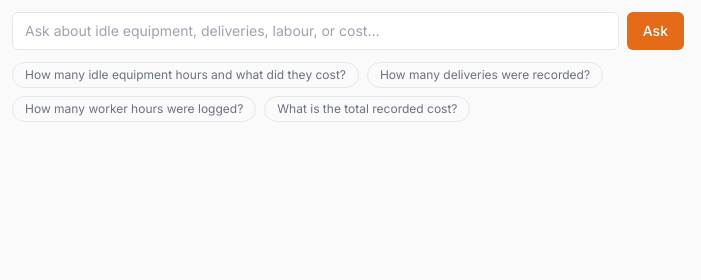
Test case: RecordAsk › asks a question and renders the answer + evidence count
The width and height of the screenshot is (701, 280).
In the field with placeholder "Ask about idle equipment, deliveries, labour, or cost…": (315,31) [12,12,619,50], type "idle equipment cost?"
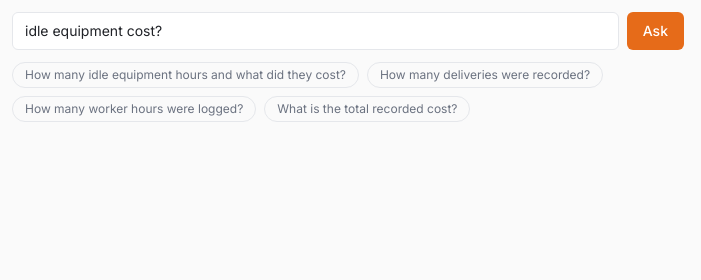
Click the button "Ask": (655,31) [627,12,684,50]
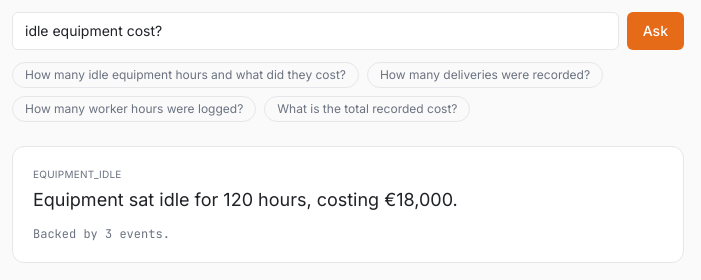
Expected: the element with test id "ask-answer" is shown, [12,146,684,263]
Expected: the text "Equipment sat idle for 120 hours, costing €18,000." is shown, [33,189,458,210]
Expected: the text "Backed by 3 events." is shown, [33,226,170,242]
